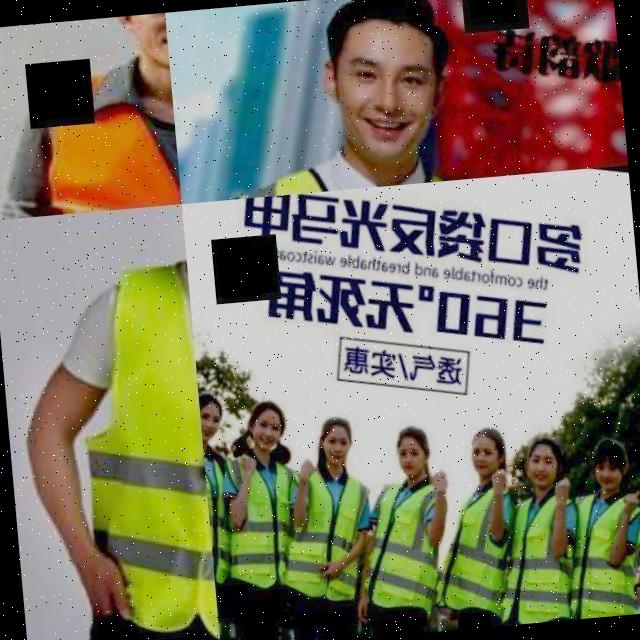vest: (55, 240, 220, 640), (10, 51, 182, 218), (290, 460, 374, 600), (506, 483, 586, 621), (372, 476, 458, 604), (230, 457, 307, 591), (448, 475, 520, 605), (572, 482, 640, 612), (202, 438, 244, 577)
